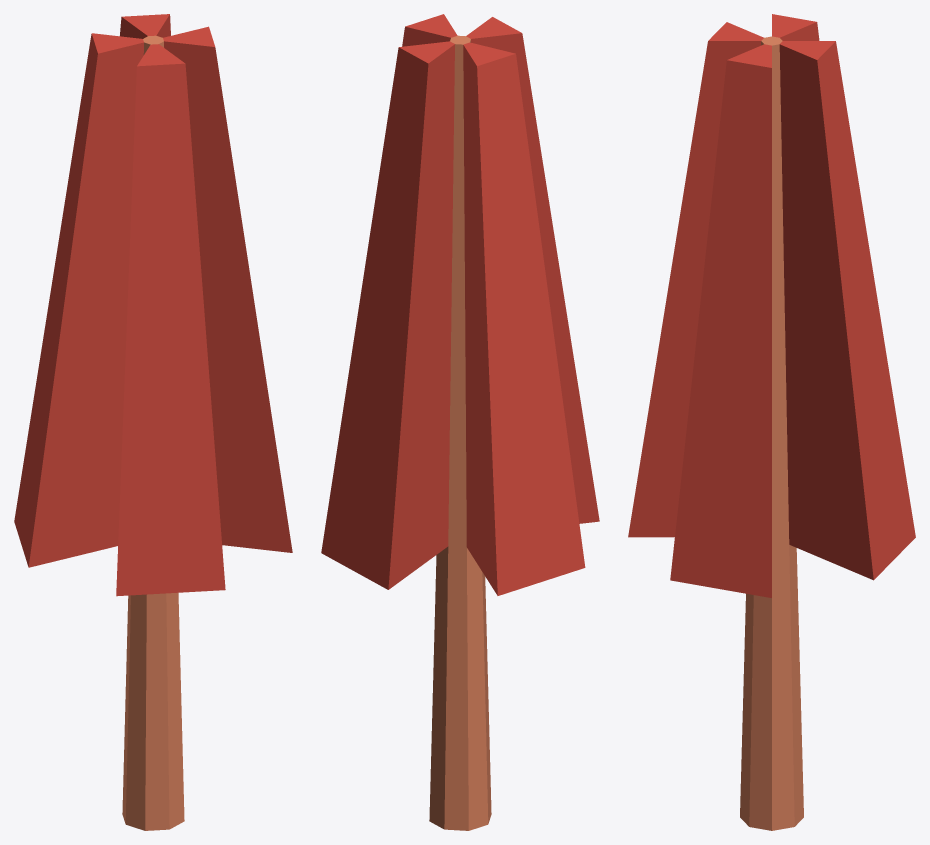
Rendered from Tree_28_summer_red.fbx.
The picture shows the model from 3 angles, left to right: view 1: azimuth 30°, elevation 25°; view 2: azimuth 150°, elevation 25°; view 3: azimuth 270°, elevation 25°; orthographic projection.
Parts seen in each view (by area): view 1: Tree_28_summer_red; view 2: Tree_28_summer_red; view 3: Tree_28_summer_red.
Part boxes in pixels (left/top/right/bottom): Tree_28_summer_red: left=14, top=14, right=292, bottom=830; Tree_28_summer_red: left=321, top=14, right=599, bottom=830; Tree_28_summer_red: left=628, top=14, right=915, bottom=830.
Bounding box in the file's own units: 98.97 × 294 × 98.97.
